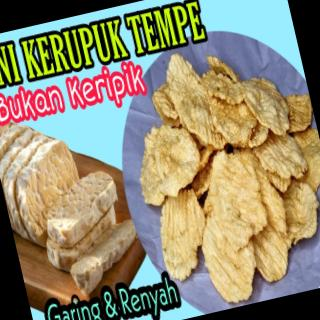Tempe: (181, 143, 287, 309), (37, 167, 128, 253), (127, 116, 210, 210), (161, 46, 229, 159), (62, 217, 150, 300), (149, 184, 219, 285), (40, 204, 129, 278)
